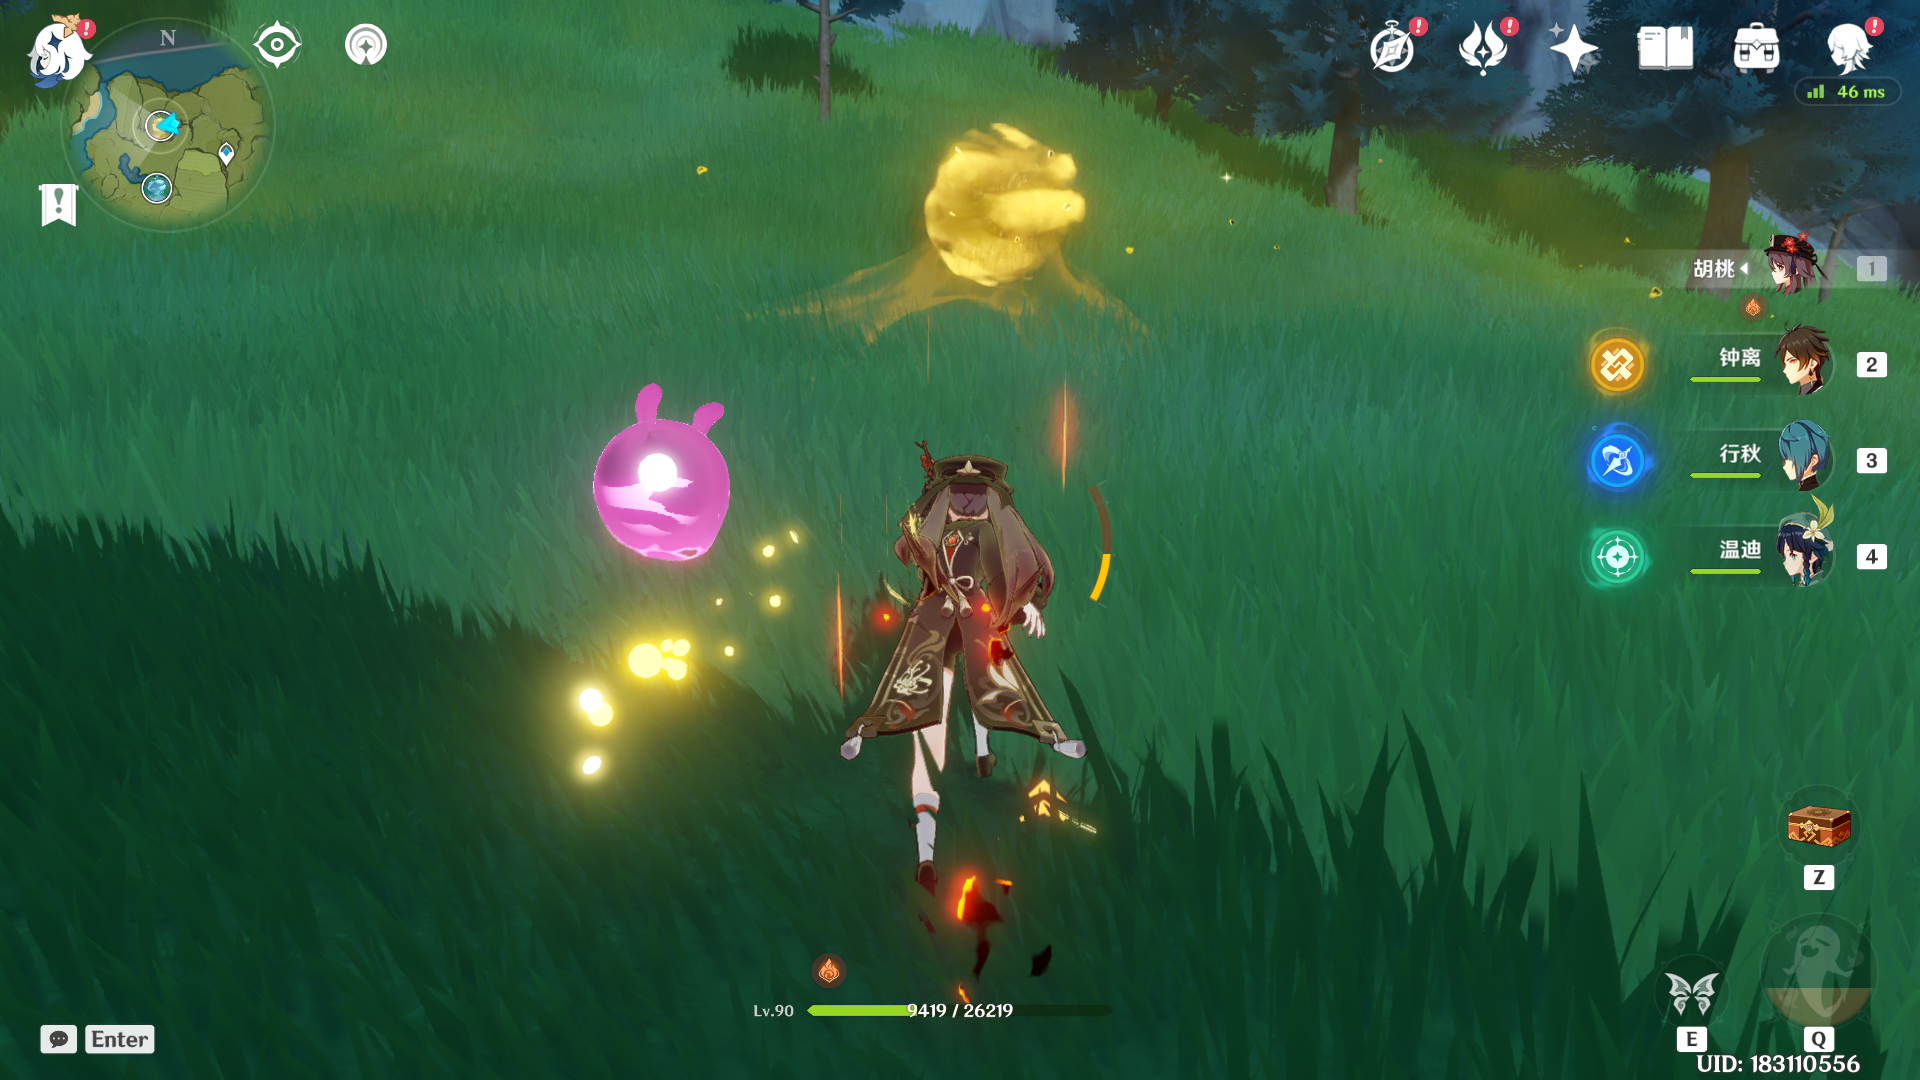character: (793, 382, 1138, 930)
